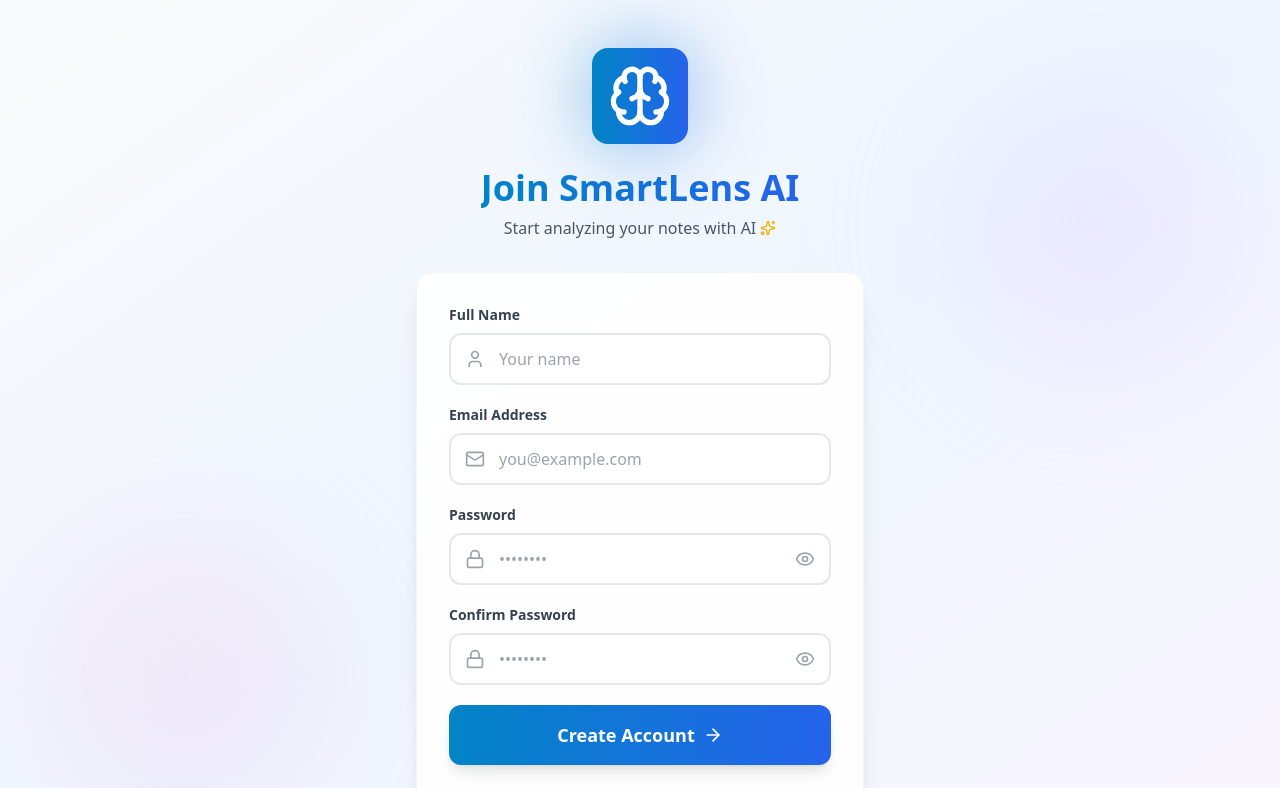
Test case: Signup Component › Form Validation › should show error when password is less than 6 characters
Type "John Doe" into the field labelled "Full Name" at point(640, 359), box left=449, top=333, right=831, bottom=385
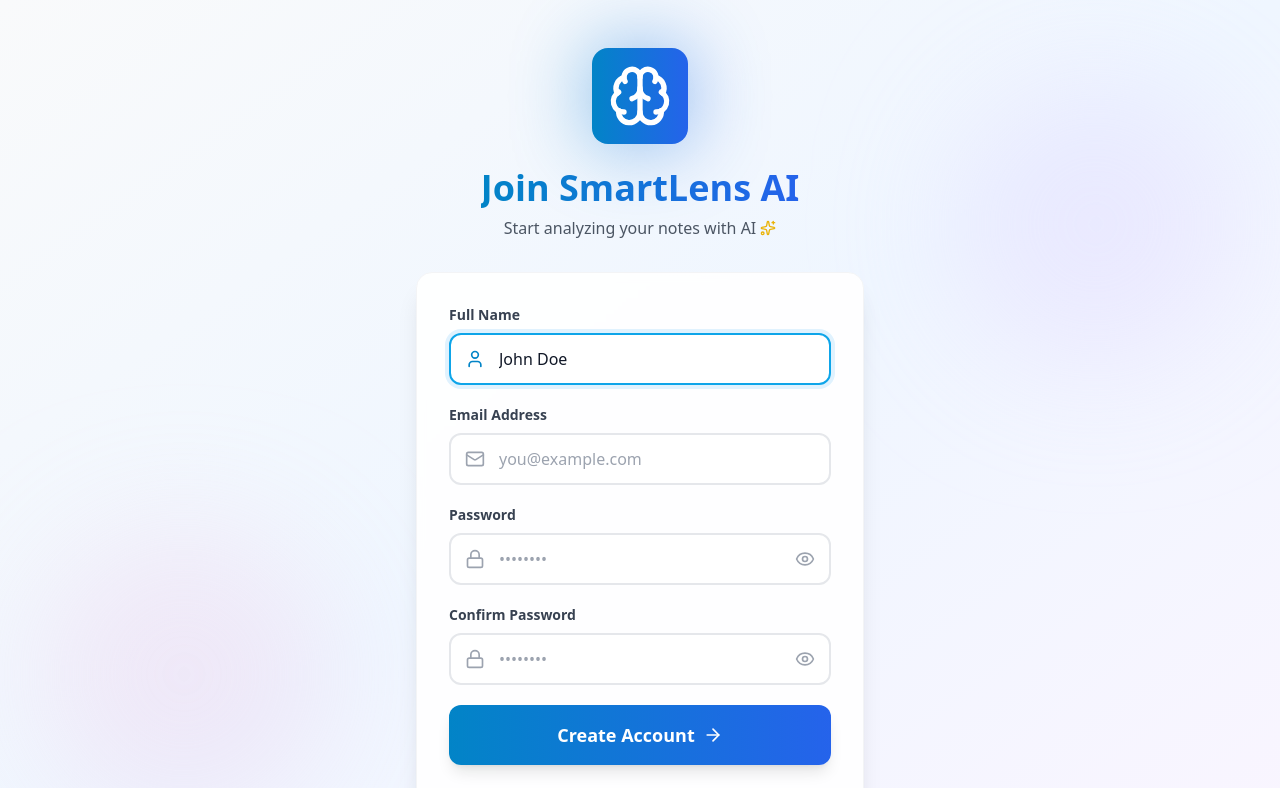
Type "test@example.com" into the field labelled "Email Address" at point(640, 459), box left=449, top=433, right=831, bottom=485
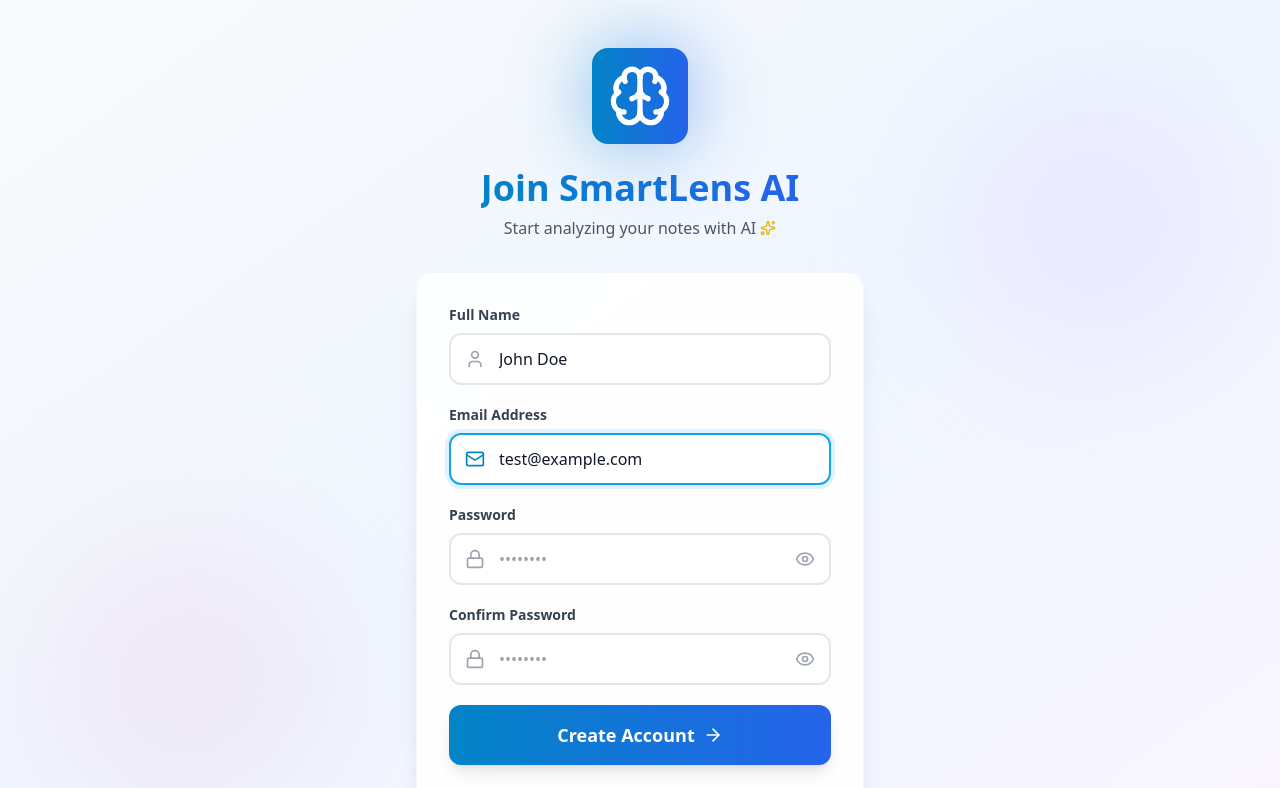
Type "12345" into the password field labelled "Password" at point(640, 559), box left=449, top=533, right=831, bottom=585
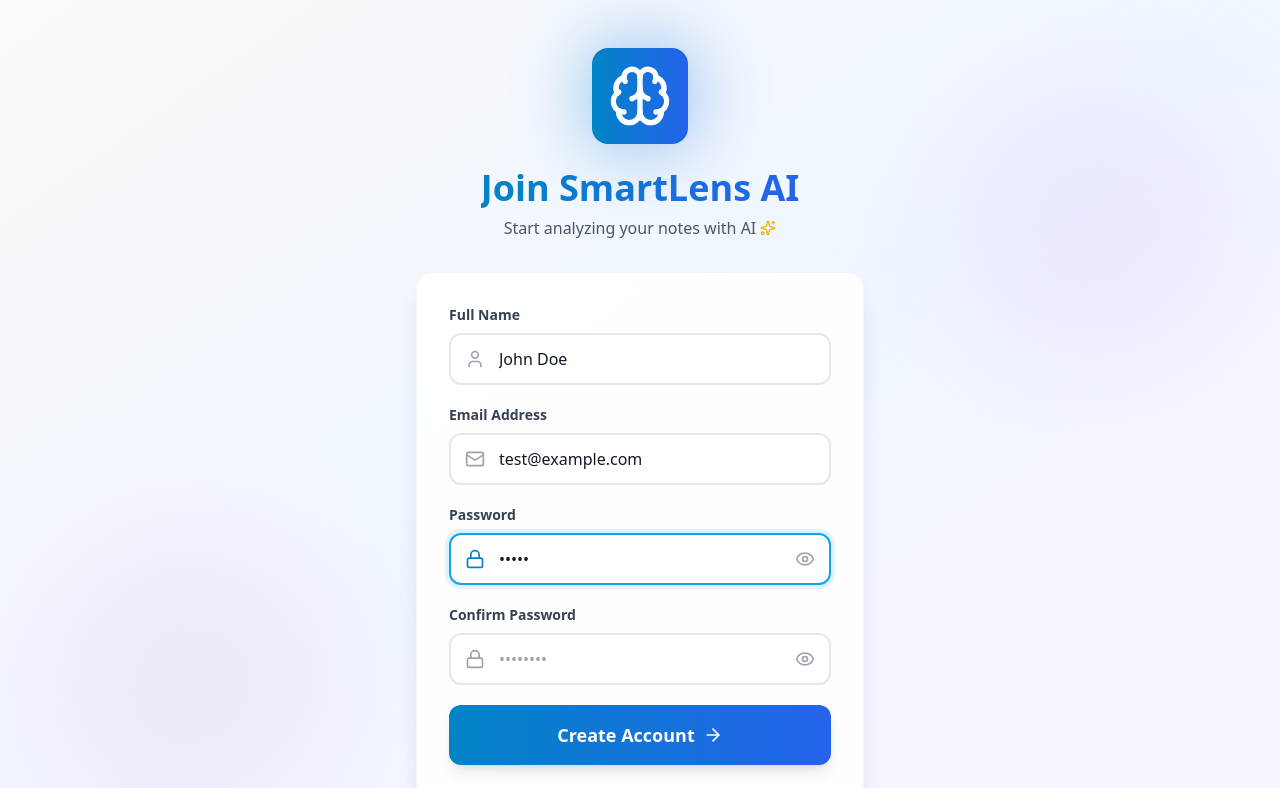
Type "12345" into the password field labelled "Confirm Password" at point(640, 659), box left=449, top=633, right=831, bottom=685
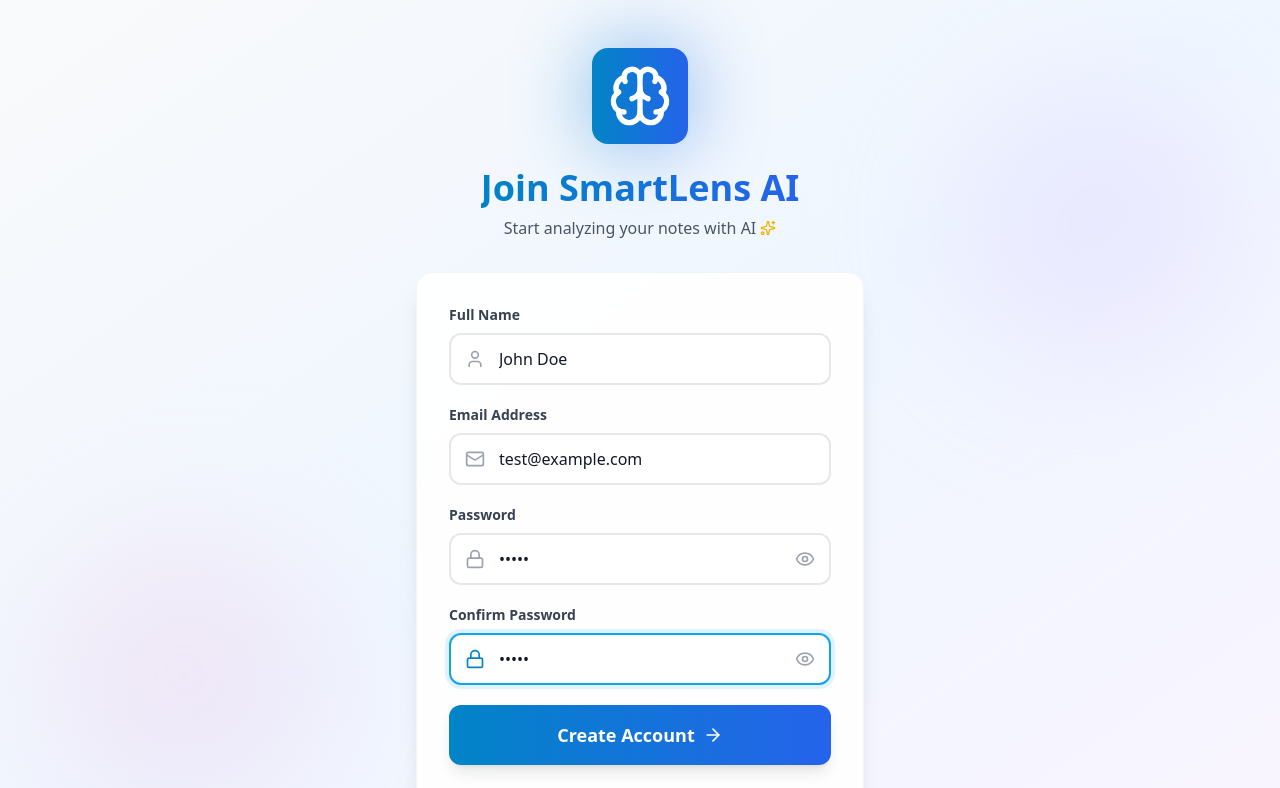
Click the button "Create Account" at point(640, 735), box left=449, top=705, right=831, bottom=765
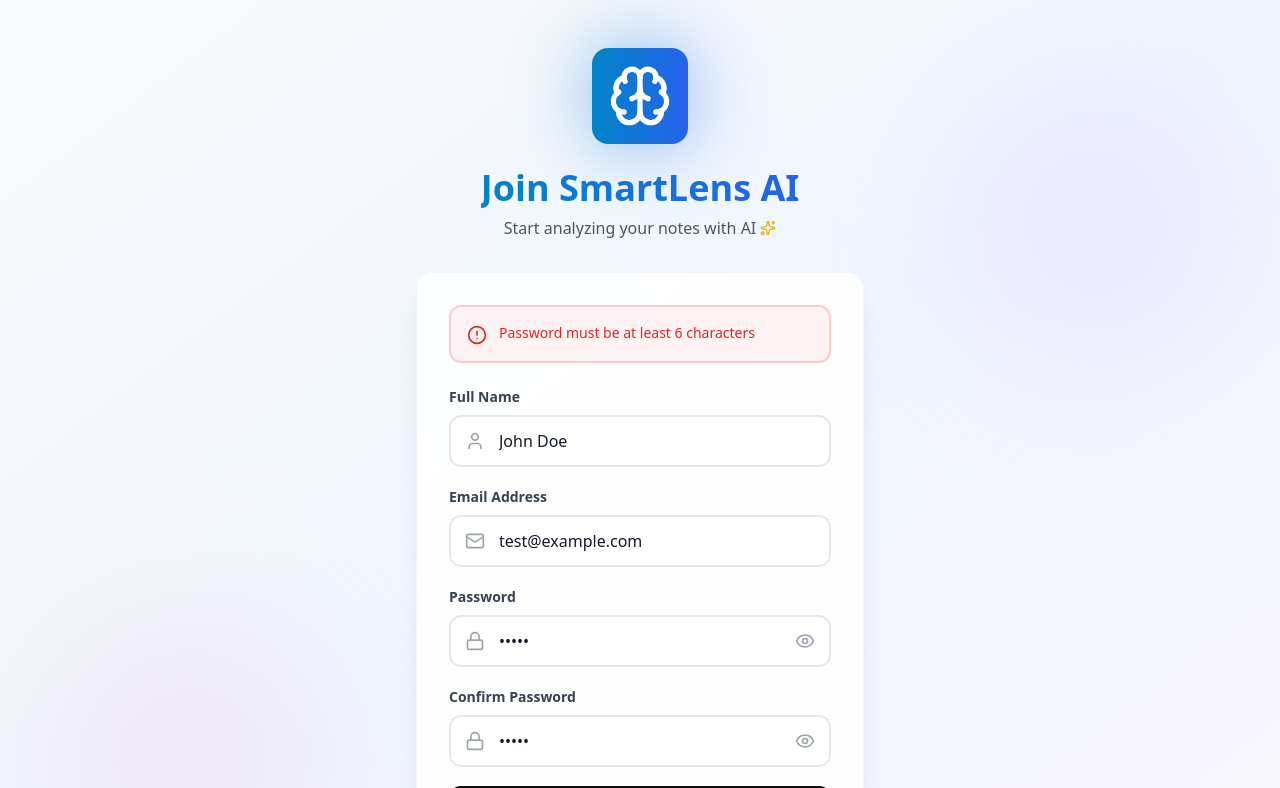
Now the text "Password must be at least 6 characters" is shown, box left=499, top=323, right=755, bottom=343
